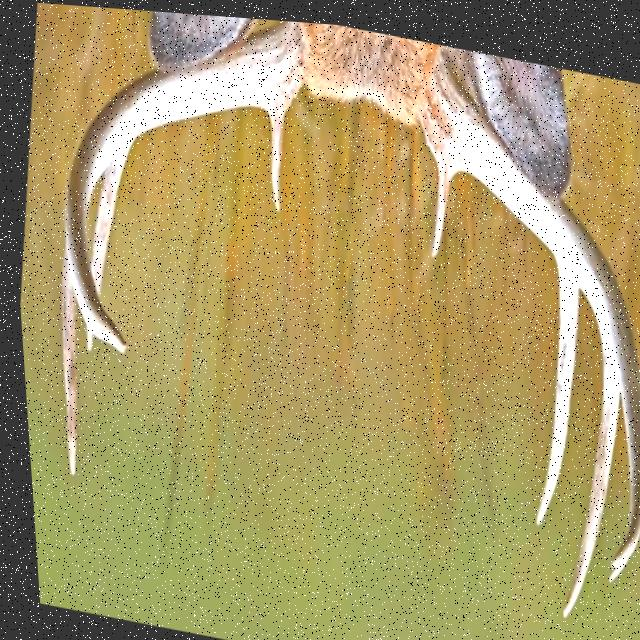L-F: (420, 53, 640, 578)
L-G1: (427, 157, 451, 250)
L-G2: (529, 251, 576, 519)
L-G3: (554, 324, 615, 610)
R-F: (61, 17, 302, 352)
R-G1: (268, 107, 283, 207)
